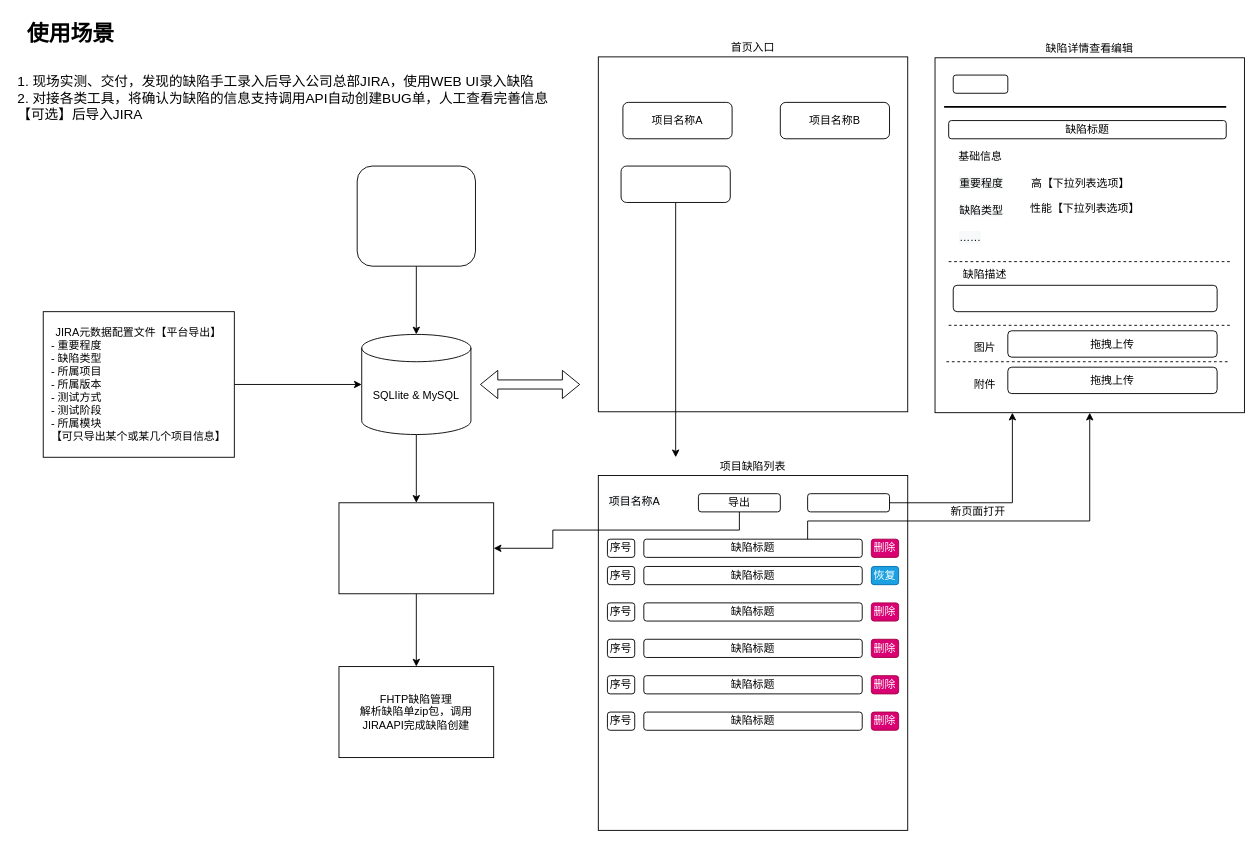
Some shapes in this 1260 by 846 pixel diagram are drawn without their labels. The centre of each missing label's shape, as x and y in pixels:
API创建缺陷 POST - 缺陷文本内容信息 - 图片 - 附件: pixel 415 215
保存: pixel 980 83
文本框: pixel 1084 298
新建缺陷: pixel 848 502
每个缺陷单生成一个zip压缩包 - 文本信息.json - images/xxx.jpg - attachments/xx.log: pixel 416 548
项目名称C: pixel 675 183
